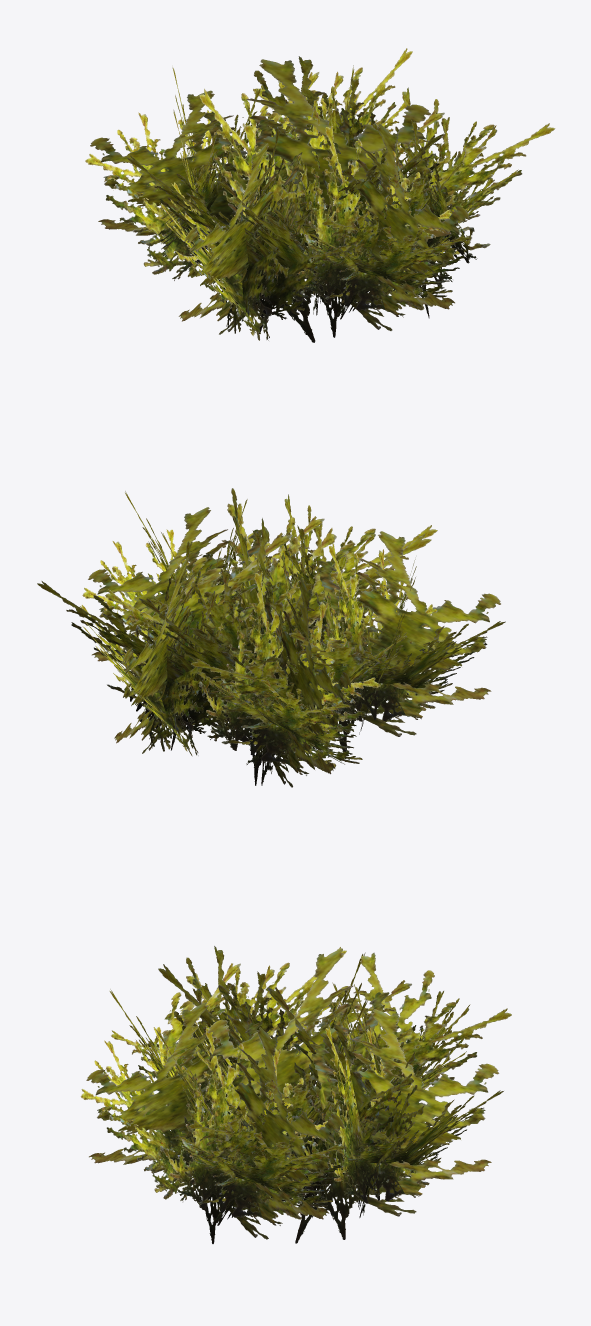
Rendered from common_shrub_cluster.DAE.
3 views of the same model, one above another, from view 1: azimuth 30°, elevation 25°; view 2: azimuth 150°, elevation 25°; view 3: azimuth 270°, elevation 25° (orthographic). The views are drawn at different scales.
Parts seen in each view (by area): view 1: Plane05; view 2: Plane05; view 3: Plane05.
Part boxes in pixels (left/top/right/bottom): Plane05: left=85, top=48, right=555, bottom=342; Plane05: left=37, top=488, right=505, bottom=787; Plane05: left=80, top=946, right=511, bottom=1243.
Size of the model in its own units: 6.84 by 4.98 by 7.2.
